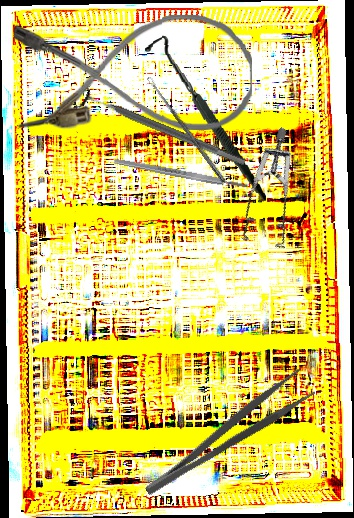Cannula: (14, 13, 253, 134)
Dressing Forceps: (133, 366, 318, 500)
Fixation Ring: (73, 82, 250, 176)
Hook Surgical: (143, 26, 267, 213)
Scalpel Handle: (112, 156, 250, 191)
Speculum: (207, 126, 344, 265)
Surgical Spoon: (146, 75, 227, 184)
